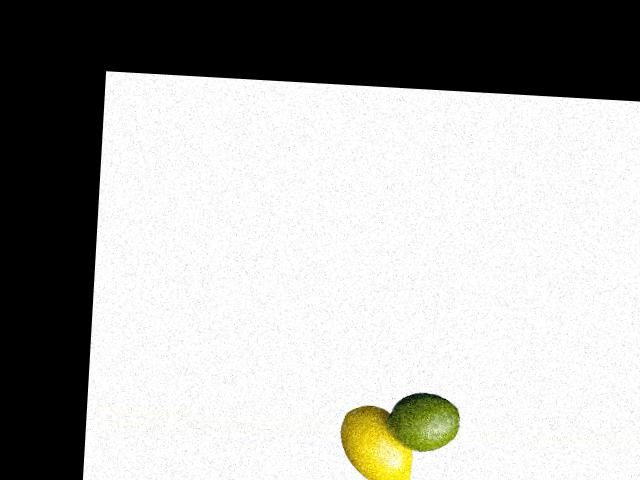lemon: (374, 386, 463, 465)
